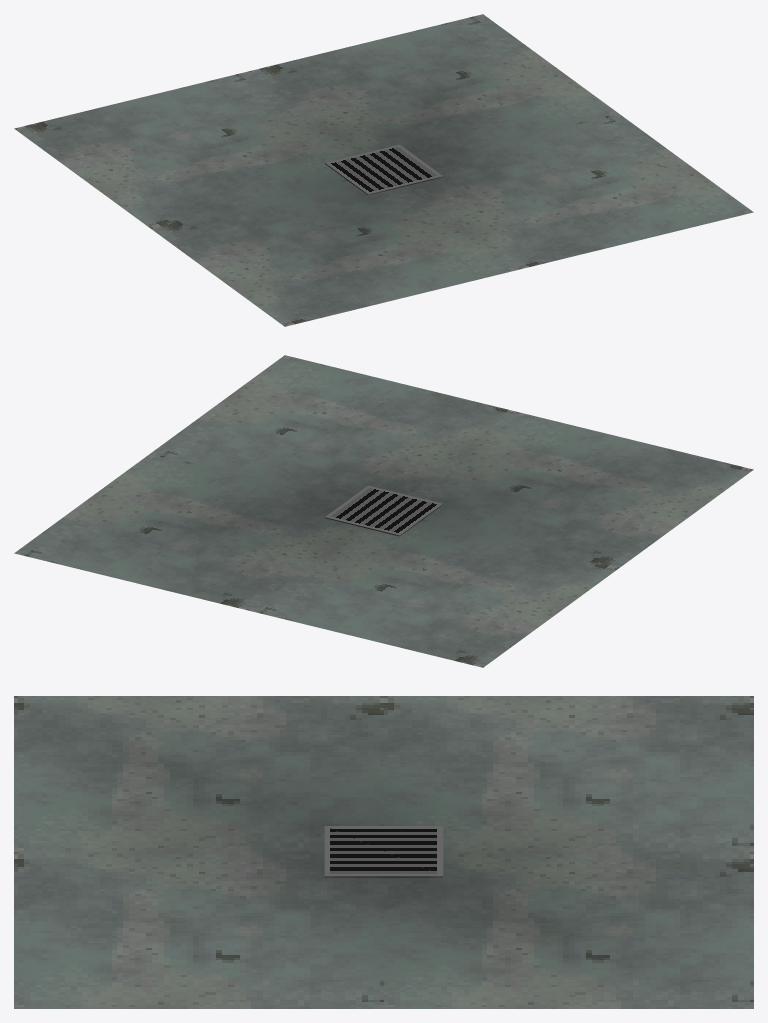
Rendered from floor_cell_drain.glb.
3 renders of one model, top to bottom at view 1: azimuth 30°, elevation 25°; view 2: azimuth 150°, elevation 25°; view 3: azimuth 270°, elevation 25°, orthographic. The views are drawn at different scales.
Visible parts, largest first — view 1: floor_cell_drain; view 2: floor_cell_drain; view 3: floor_cell_drain.
Boxes of the visible parts, x1=… form: floor_cell_drain: x1=14, y1=14, x2=753, y2=326; floor_cell_drain: x1=14, y1=355, x2=753, y2=667; floor_cell_drain: x1=14, y1=696, x2=753, y2=1008.
Bounding box in the file's own units: 2 × 0.004 × 2.
Materials: 2 (2 with a texture image).
